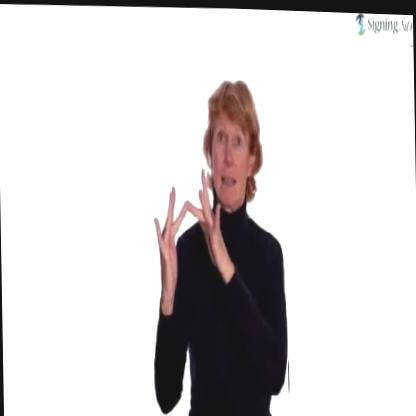Internet: (149, 70, 289, 416)
